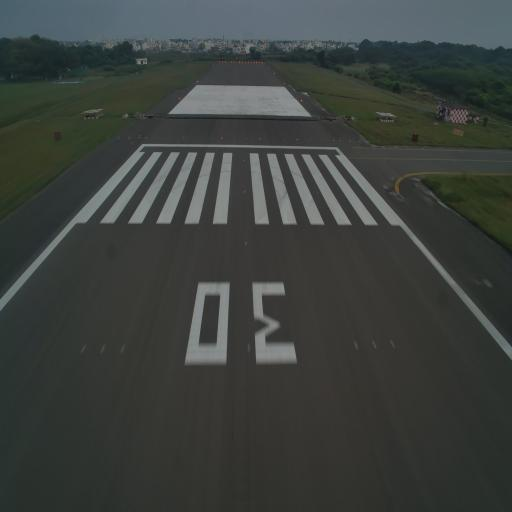off: (369, 337, 378, 353), (98, 342, 108, 355), (80, 342, 87, 356), (120, 341, 128, 353), (352, 339, 359, 352), (390, 336, 395, 351)
on: (246, 341, 251, 355), (244, 239, 249, 248), (242, 187, 247, 196), (242, 158, 245, 164)
